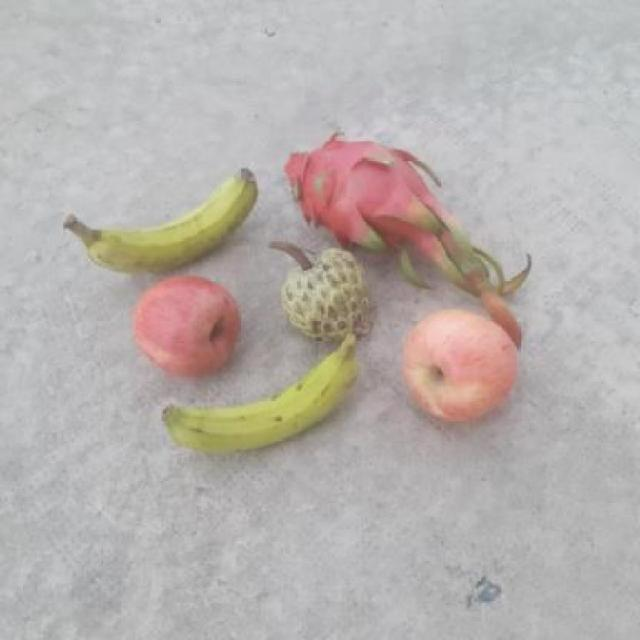apple: (401, 302, 524, 430), (119, 266, 252, 379)
banana: (58, 160, 269, 271), (152, 345, 360, 450)
dragon fruit: (278, 126, 447, 240)
sugar apple: (270, 244, 370, 342)
